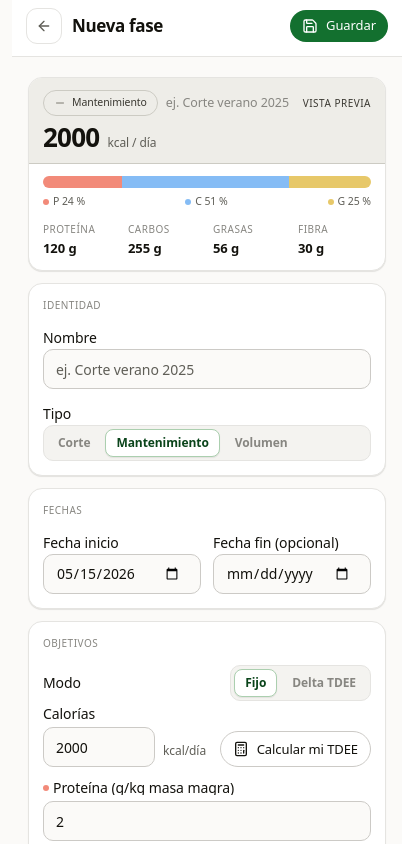
Test case: PhaseEditorPage — the overlapping save (23P01) › shows a non-overlap failure with its own message
In the field labelled "Nombre": (207, 369) x1=43 y1=349 x2=371 y2=389, type "Cut"
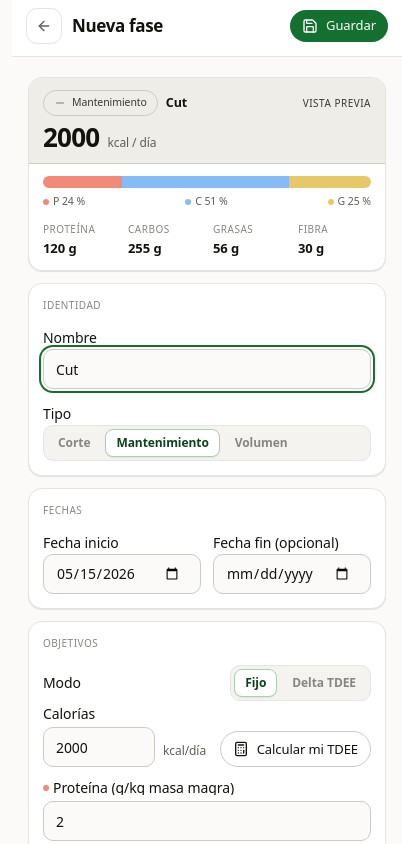
Click the button "Guardar": (339, 26) x1=290 y1=10 x2=388 y2=42
(page scrolled)
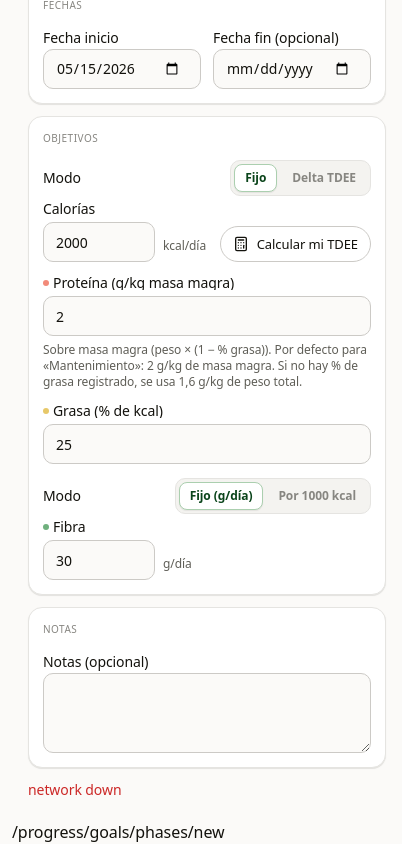
Check: the message reads "network down", box x1=28 y1=780 x2=122 y2=799
